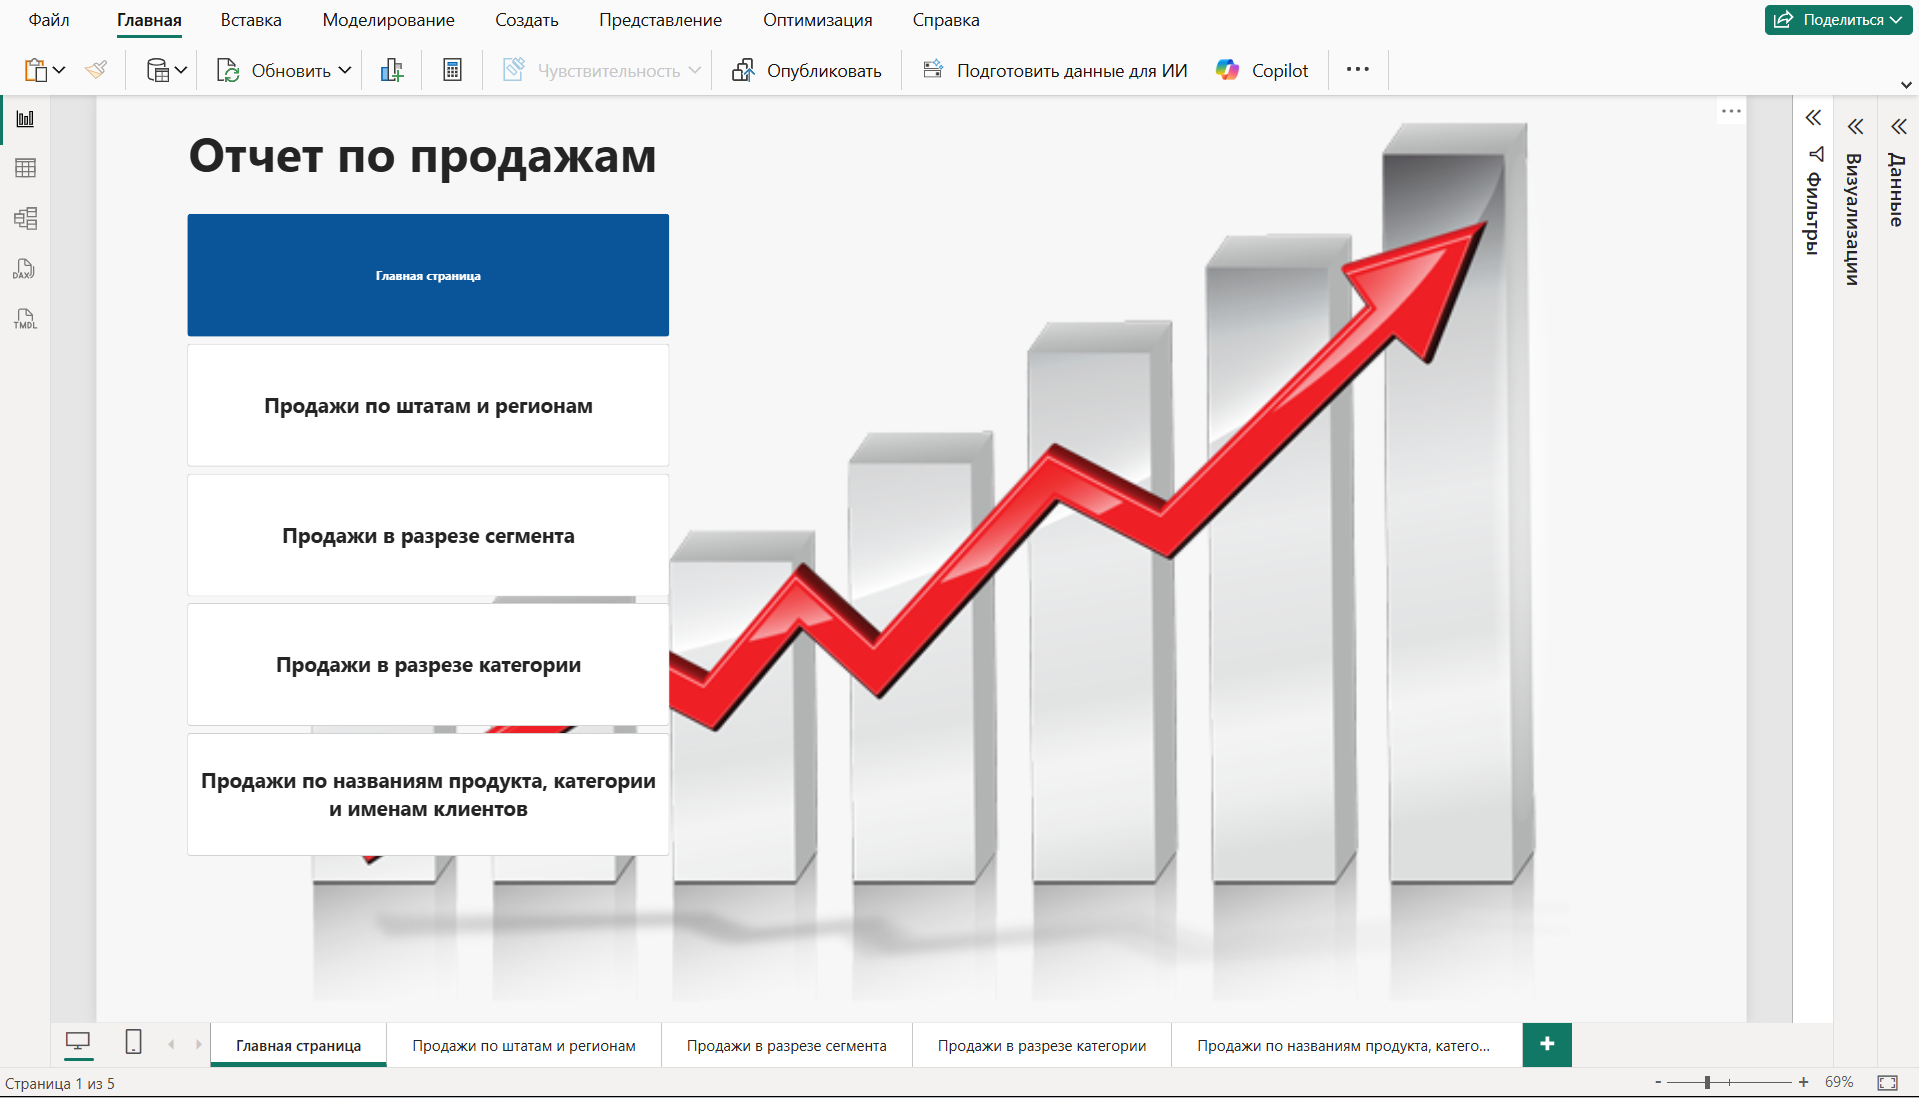

Layout of this report page (visuals, bound fields, positions):
{"tool":"powerbi","page":{"name":"Главная страница","canvas":[1920,1080],"ordinal":0},"visuals":[{"type":"image","box":[0,0,1920.4,1079.7],"z":0},{"type":"textbox","box":[107,28.8,1018.9,86.4],"z":1000},{"type":"pageNavigator","box":[106.4,137.8,561.6,751.7],"z":2000}]}

Visuals, with their boxes on the page's 1920x1080 design canvas (x1, y1, x2, y2). These are canvas units, not pixel positions in the 1919x1098 screenshot, which may show the page scaled, cropped or inside an application window:
image: [0,0,1920,1080]
textbox: [107,29,1126,115]
pageNavigator: [106,138,668,890]
